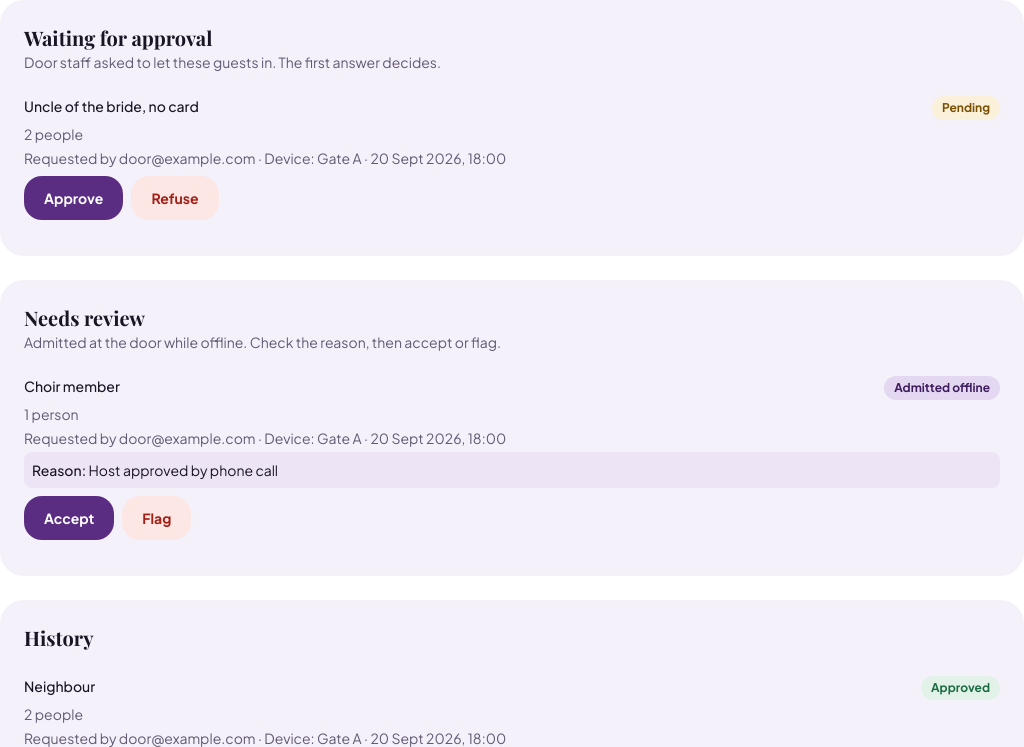
WalkInApprovals › approve posts the decision and moves the row to history
The width and height of the screenshot is (1024, 747).
Step 1. Click the button "Approve" → [74, 198], box [24,176,123,220]
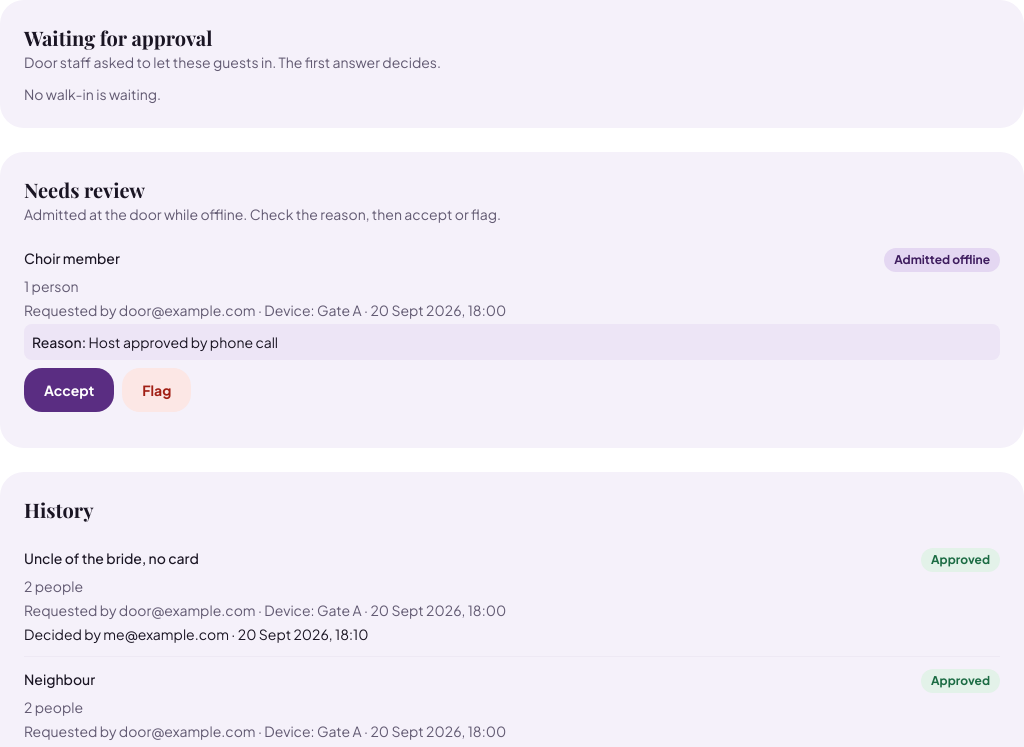
Expected: the list item with test id "walk-in-w1" is shown, [24,536,1000,657]
Result: the element with test id "walk-ins-pending" shows "No walk-in is waiting." at [24,85,161,103]
